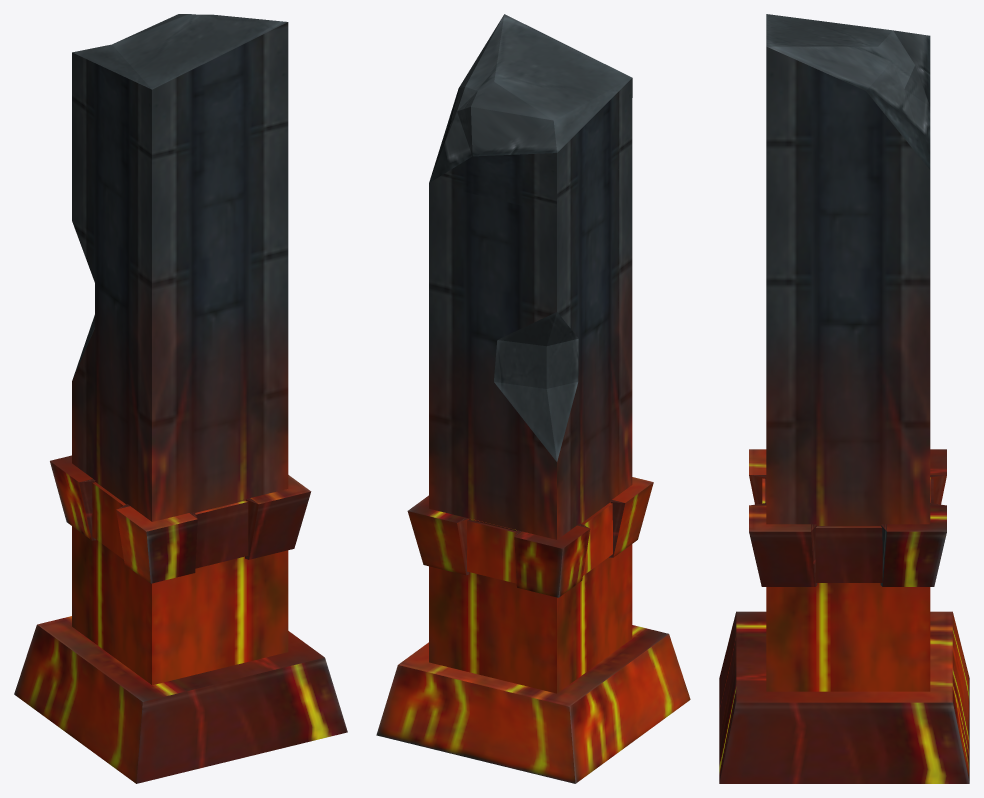
The model's file is changjing_mfxy_zhuz_posuii_a.FBX.
3 renders of one model, left to right at view 1: azimuth 30°, elevation 25°; view 2: azimuth 150°, elevation 25°; view 3: azimuth 270°, elevation 25°, orthographic. The views are drawn at different scales.
Parts seen in each view (by area): view 1: changjing_mfxy_zhuz_posuii_a; view 2: changjing_mfxy_zhuz_posuii_a; view 3: changjing_mfxy_zhuz_posuii_a.
Part boxes in pixels (x1,y1,x2,y2): changjing_mfxy_zhuz_posuii_a: (14, 14, 347, 783); changjing_mfxy_zhuz_posuii_a: (376, 14, 690, 783); changjing_mfxy_zhuz_posuii_a: (719, 14, 969, 783).
Bounding box in the file's own units: 227 × 227 × 720.
